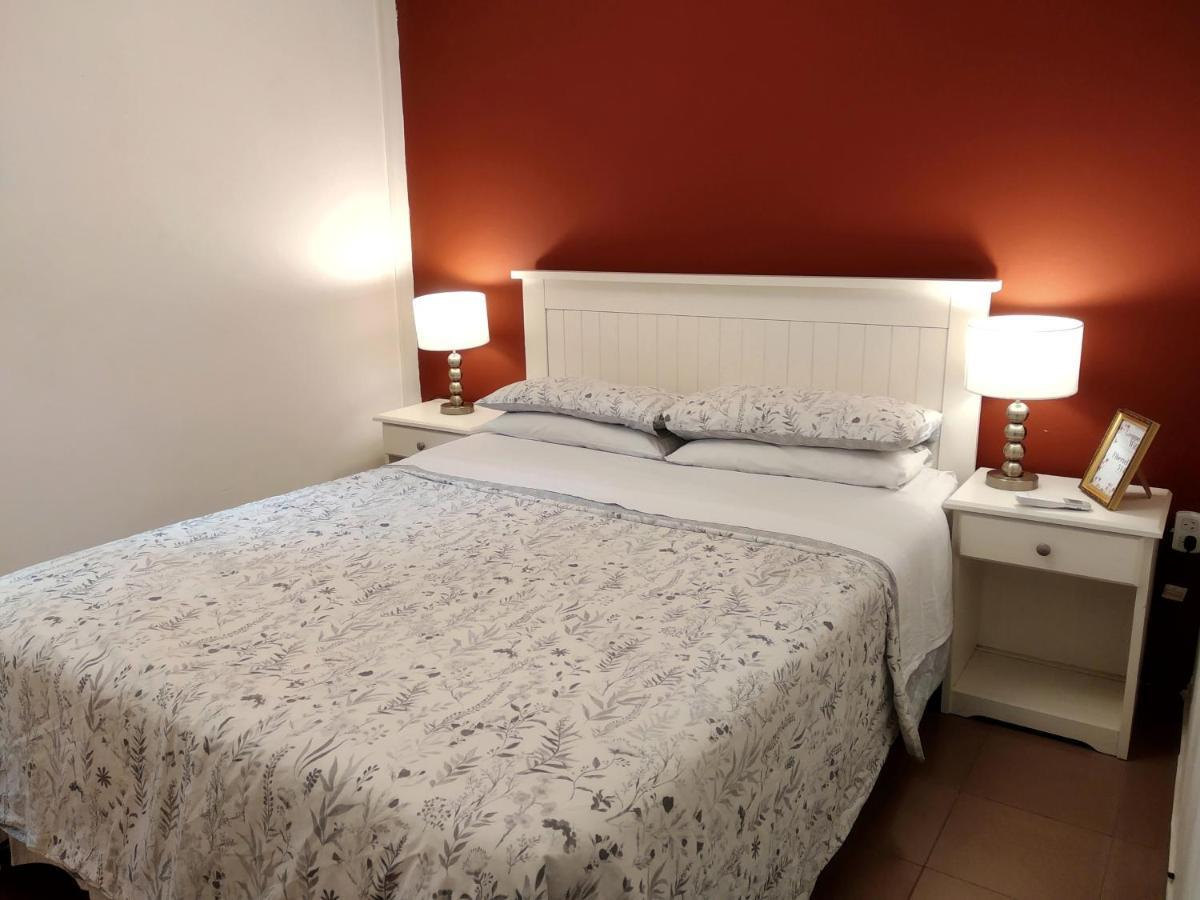bed: (316, 240, 836, 900)
